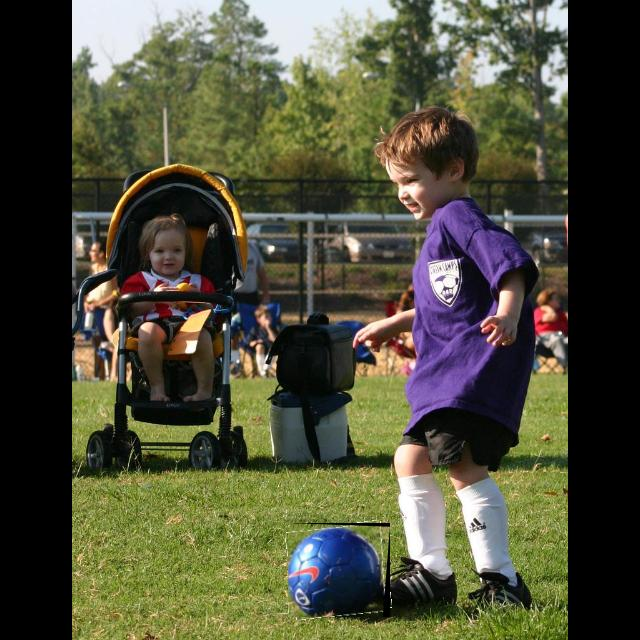Football: (288, 523, 390, 617)
